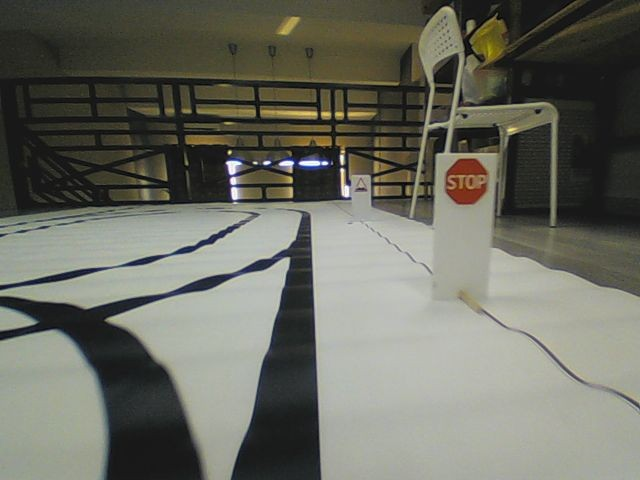Nerov: (353, 176, 368, 193)
Stop: (443, 156, 489, 206)
